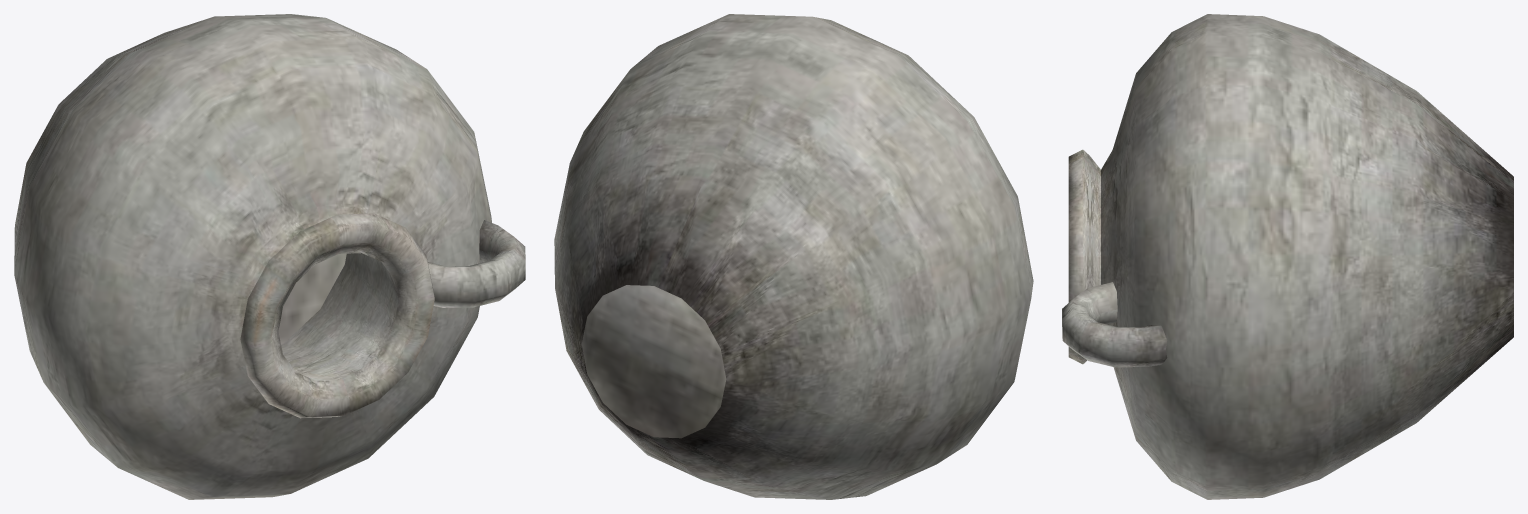
File: egypt_prop_vase5_interior.glb
3 renders of one model, left to right at view 1: azimuth 30°, elevation 25°; view 2: azimuth 150°, elevation 25°; view 3: azimuth 270°, elevation 25°, orthographic. The views are drawn at different scales.
Size of the model in its own units: 42.24 by 42.24 by 39.18.
Materials: 1 (1 with a texture image).
